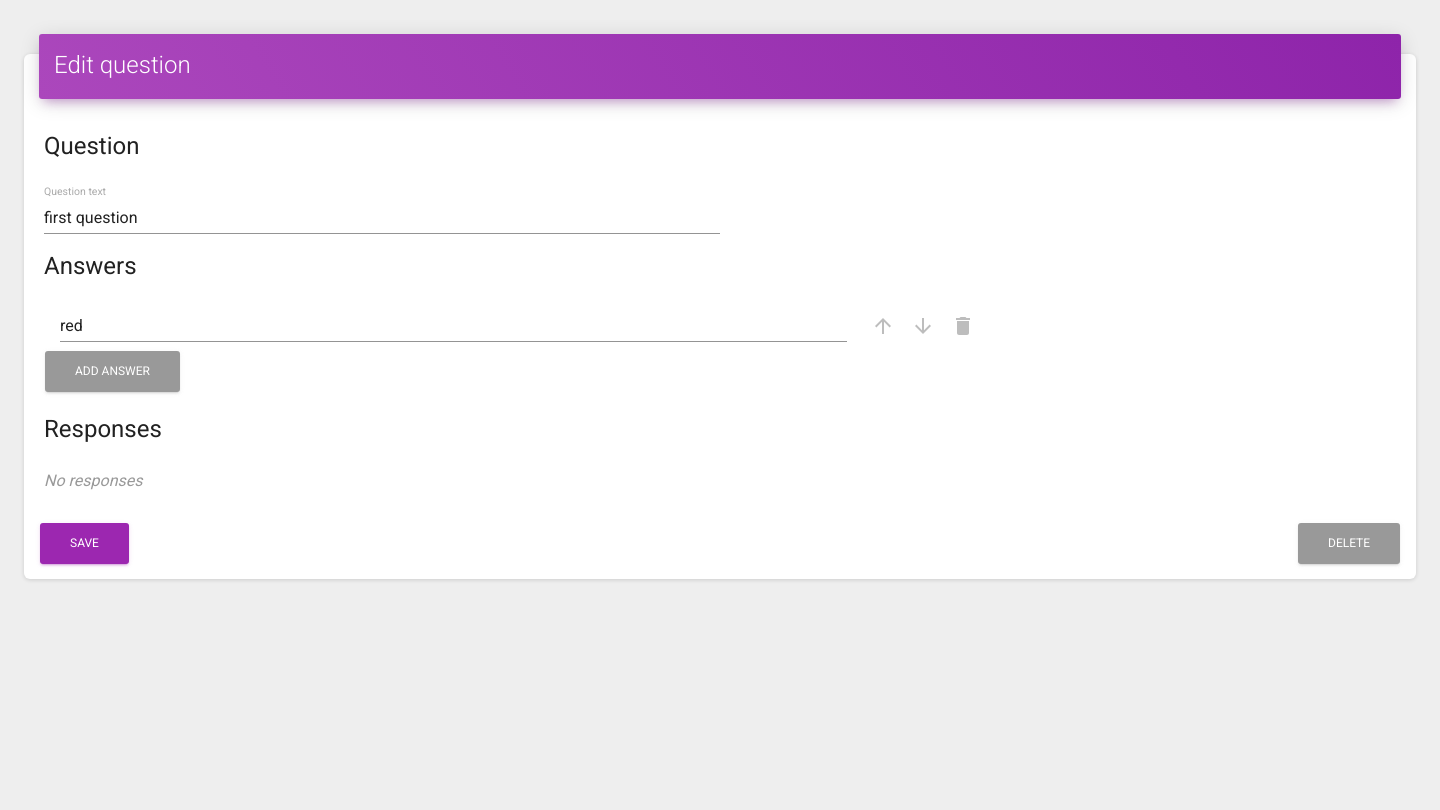
Scenario: Editing questions › when the current game is Trivia › removes the question from the table after deleting it
The width and height of the screenshot is (1440, 810).
What coordinates should you click on to do the following:
click the button "Delete"
I would click on:
 (1349, 544)
Its box is [1298,523,1400,564].
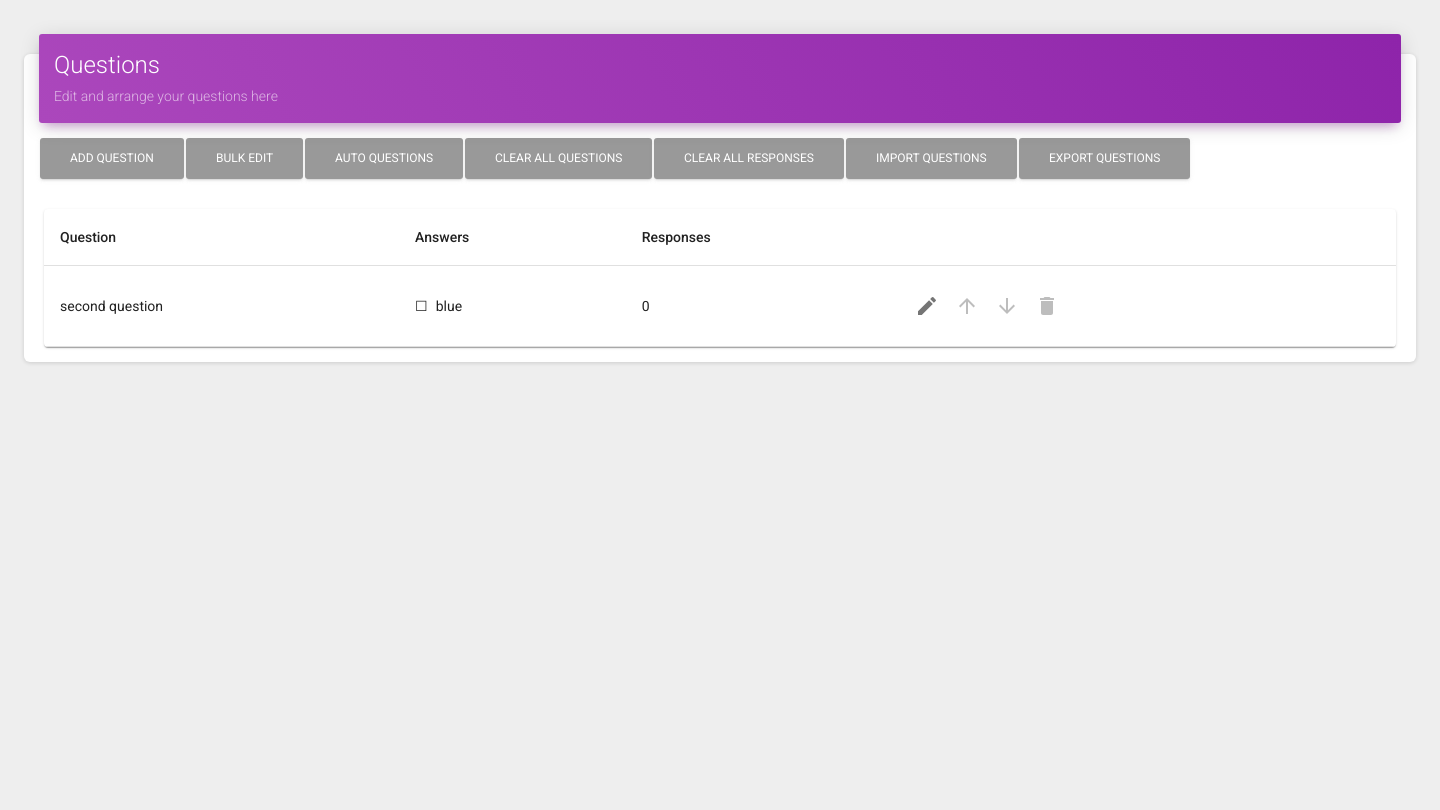
Expected: the text "first question" is not shown
Expected: the column heading "second question" is shown, [44,266,399,347]
